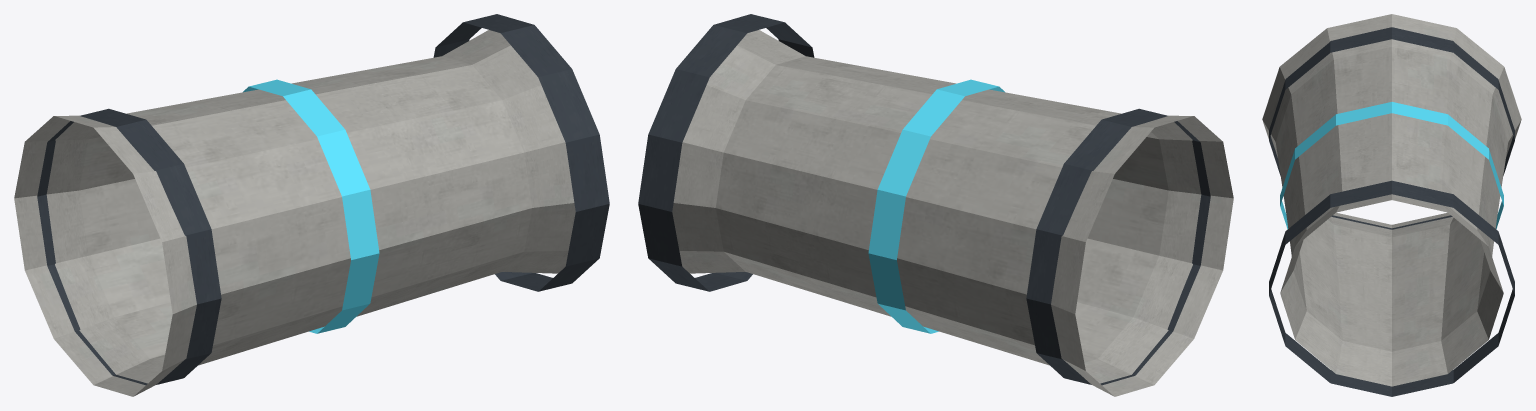
The model's file is eq_future_2_arm.glb.
3 renders of one model, left to right at view 1: azimuth 30°, elevation 25°; view 2: azimuth 150°, elevation 25°; view 3: azimuth 270°, elevation 25°, orthographic. The views are drawn at different scales.
Visible parts, largest first — view 1: eq_future_2_arm; view 2: eq_future_2_arm; view 3: eq_future_2_arm.
Boxes of the visible parts, left/top/right/bottom form: eq_future_2_arm: left=14, top=14, right=609, bottom=396; eq_future_2_arm: left=638, top=14, right=1233, bottom=396; eq_future_2_arm: left=1262, top=14, right=1521, bottom=396.
Size of the model in its own units: 0.2423 by 0.1352 by 0.1508.
3 materials, 3 textured.
